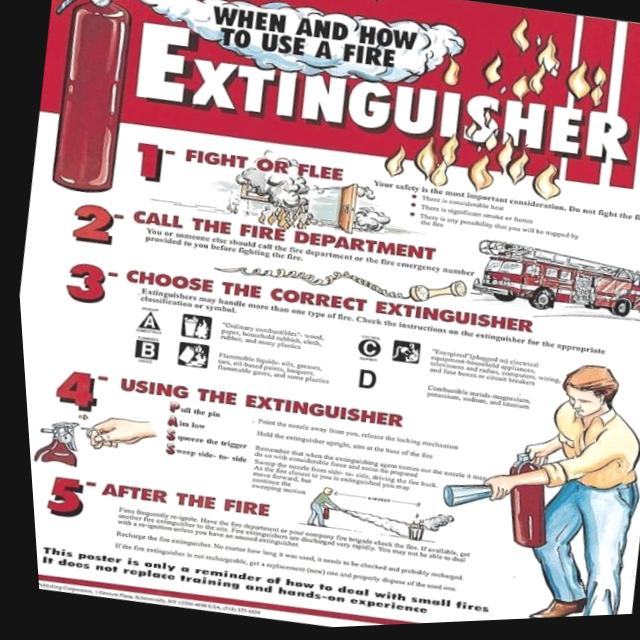FireExtinguisher: (18, 0, 154, 202)
